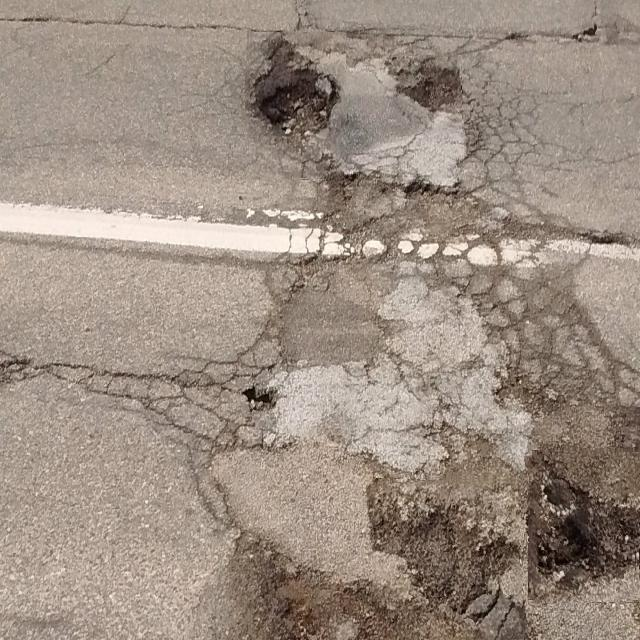Pothole: (369, 475, 524, 640), (528, 448, 640, 603), (245, 32, 346, 181), (389, 55, 462, 135)
